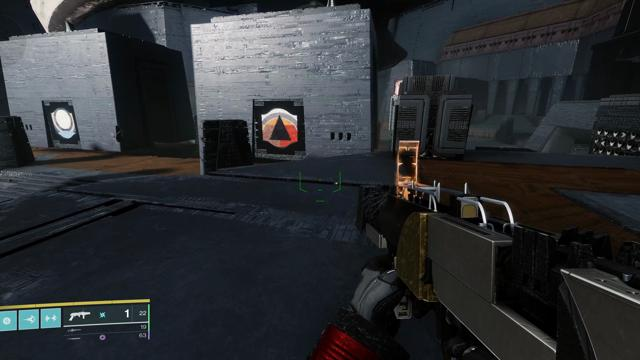pyramid: (261, 108, 299, 148)
traveler: (51, 107, 77, 139)
